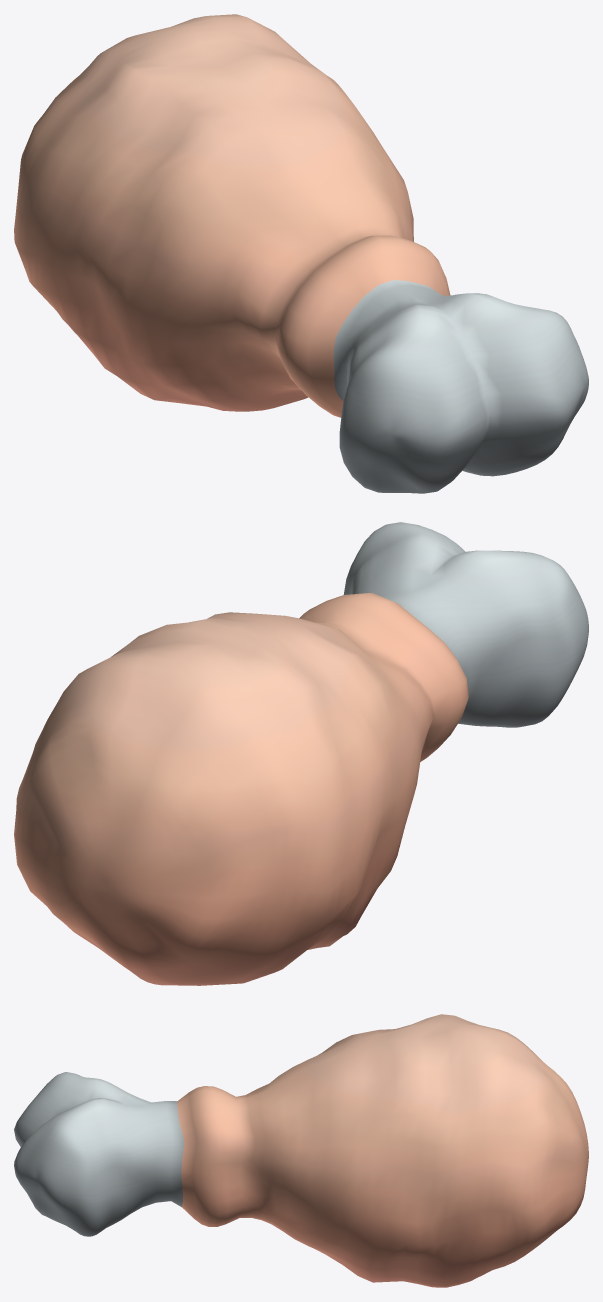
File: Chick.fbx
The picture shows the model from 3 angles, top to bottom: view 1: azimuth 30°, elevation 25°; view 2: azimuth 150°, elevation 25°; view 3: azimuth 270°, elevation 25°; orthographic projection. The views are drawn at different scales.
Visible parts, largest first — view 1: Chick_1; view 2: Chick_1; view 3: Chick_1.
Boxes of the visible parts, x1,y1,x2,y2 form: Chick_1: [14, 14, 588, 493]; Chick_1: [14, 522, 588, 985]; Chick_1: [14, 1014, 588, 1287].
Bounding box in the file's own units: 34.19 × 35.9 × 76.25.
